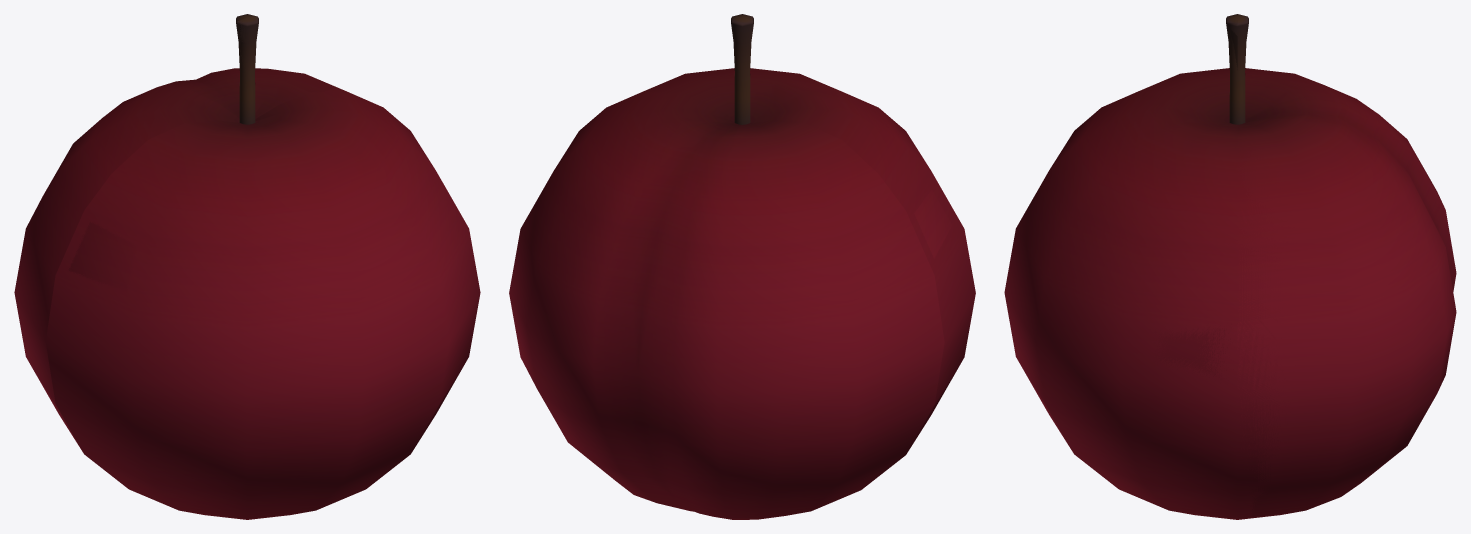
Rendered from Plum.fbx.
3 views of the same model, side by side, from view 1: azimuth 30°, elevation 25°; view 2: azimuth 150°, elevation 25°; view 3: azimuth 270°, elevation 25° (orthographic).
Parts seen in each view (by area): view 1: Plum_Half_Back, Plum_Whole, Plum_Half_Front; view 2: Plum_Whole, Plum_Half_Back, Plum_Half_Front; view 3: Plum_Whole, Plum_Half_Front, Plum_Half_Back.
Boxes of the visible parts, x1,y1,x2,y2 form: Plum_Half_Back: [45, 16, 480, 519]; Plum_Whole: [14, 14, 454, 451]; Plum_Half_Front: [175, 14, 337, 122]; Plum_Whole: [526, 14, 951, 519]; Plum_Half_Back: [665, 14, 975, 451]; Plum_Half_Front: [509, 17, 808, 388]; Plum_Whole: [1035, 14, 1456, 519]; Plum_Half_Front: [1237, 14, 1413, 516]; Plum_Half_Back: [1004, 14, 1237, 519].
Size of the model in its own units: 1.18 by 1.33 by 1.15.
